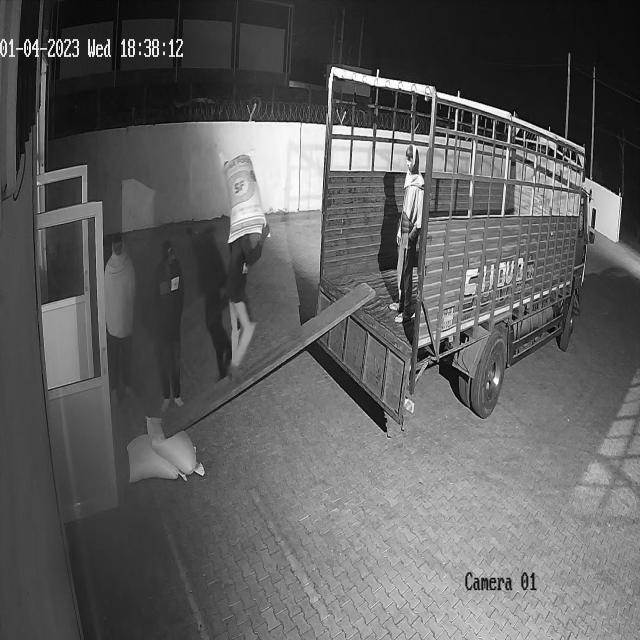sack: (222, 154, 266, 244), (145, 414, 206, 477), (126, 434, 187, 484)
